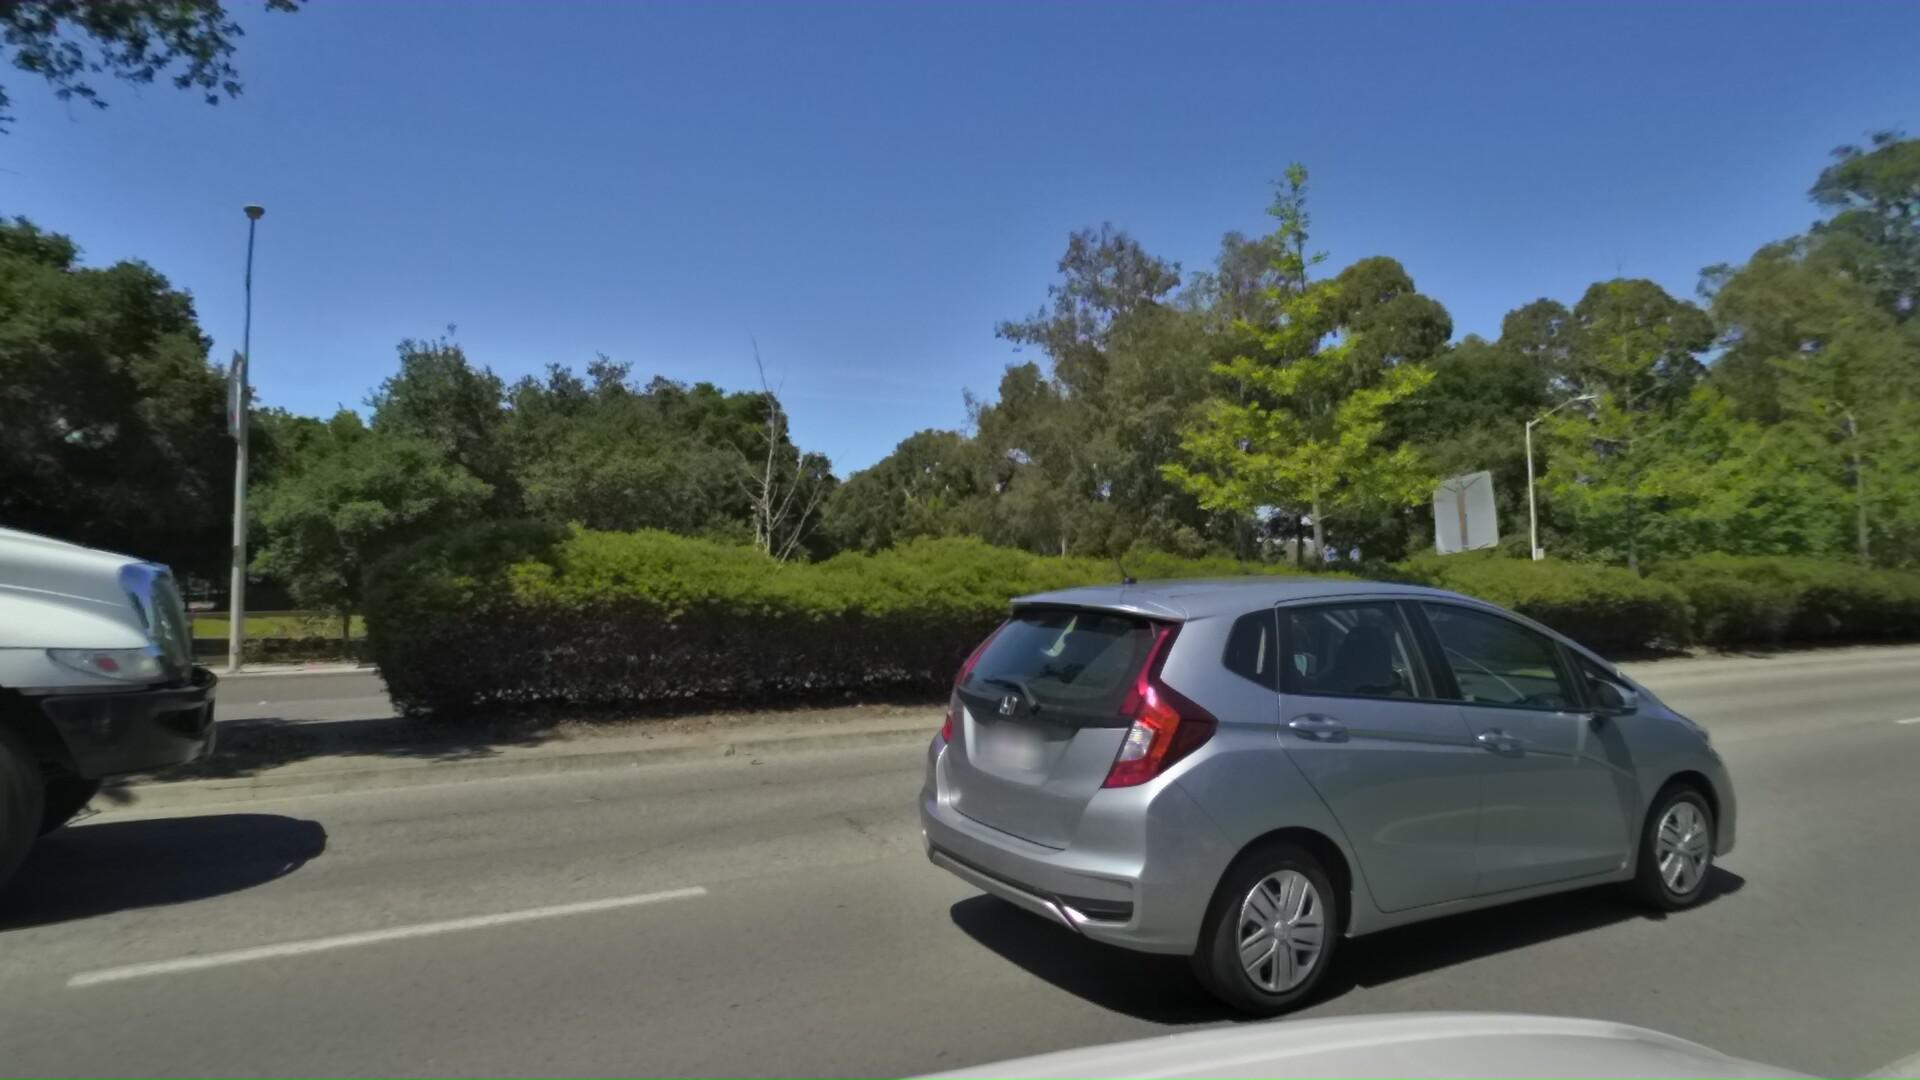car: (851, 549, 1825, 1080)
